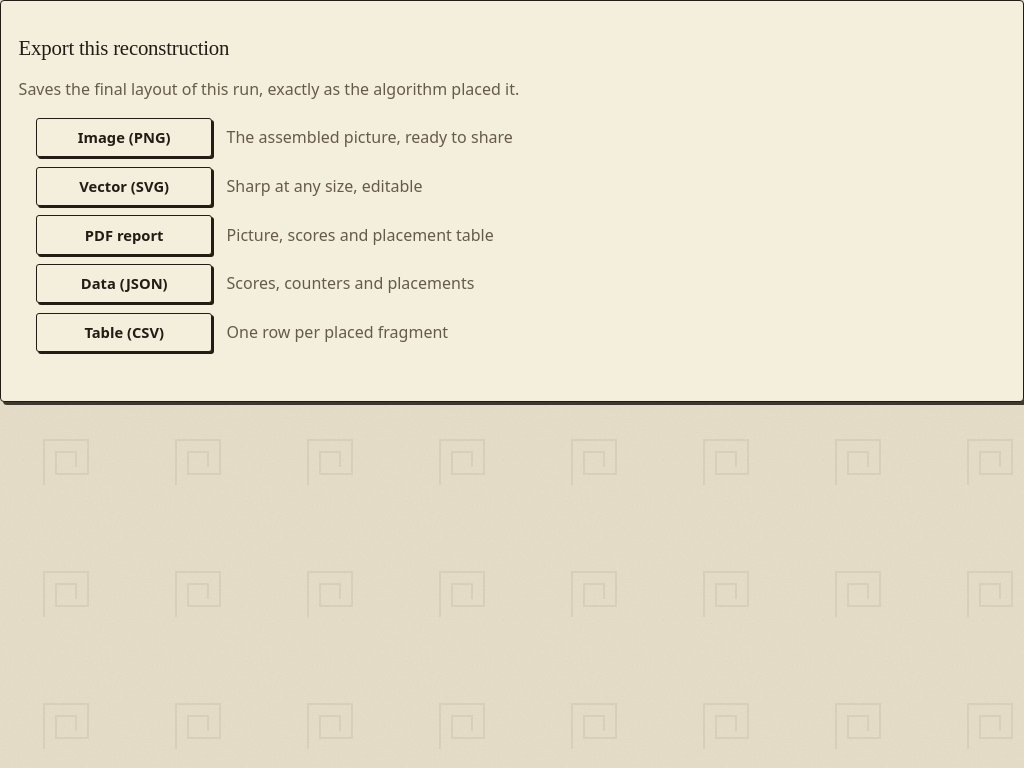
it: ExportMenu › exports the chosen format and reports the saved file
Click the button "PDF report" at {"x": 124, "y": 235}, box [36,215,212,255]
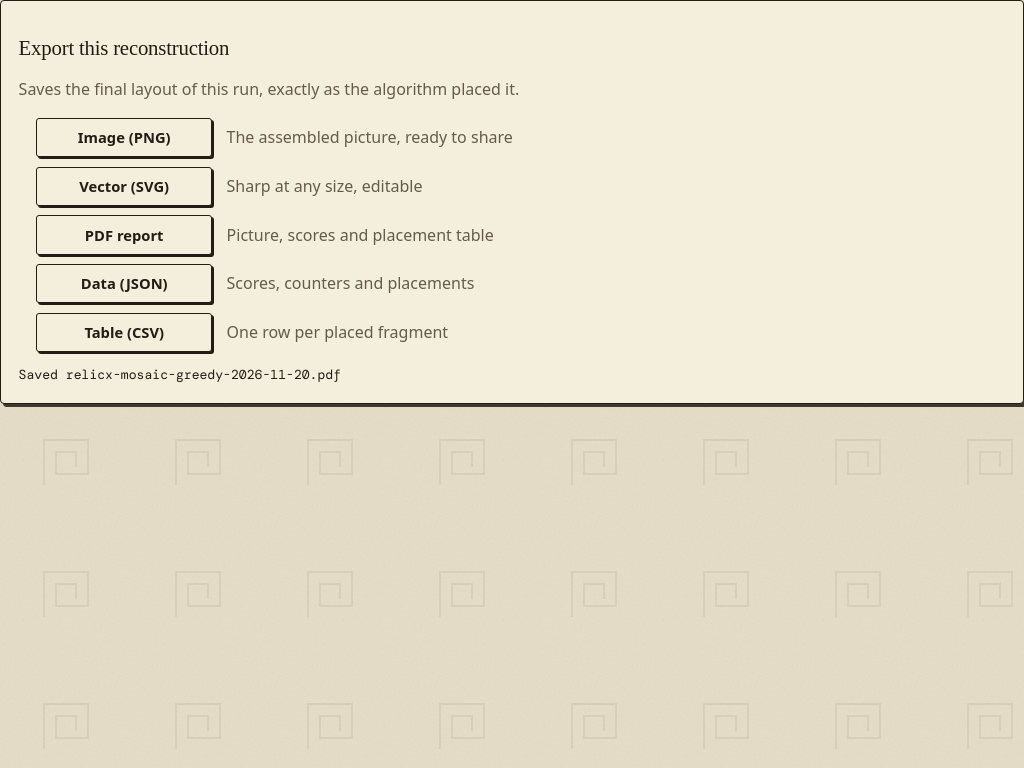
Check: the text "Saved relicx-mosaic-greedy-2026-11-20.pdf" is shown, box [19,366,341,383]
